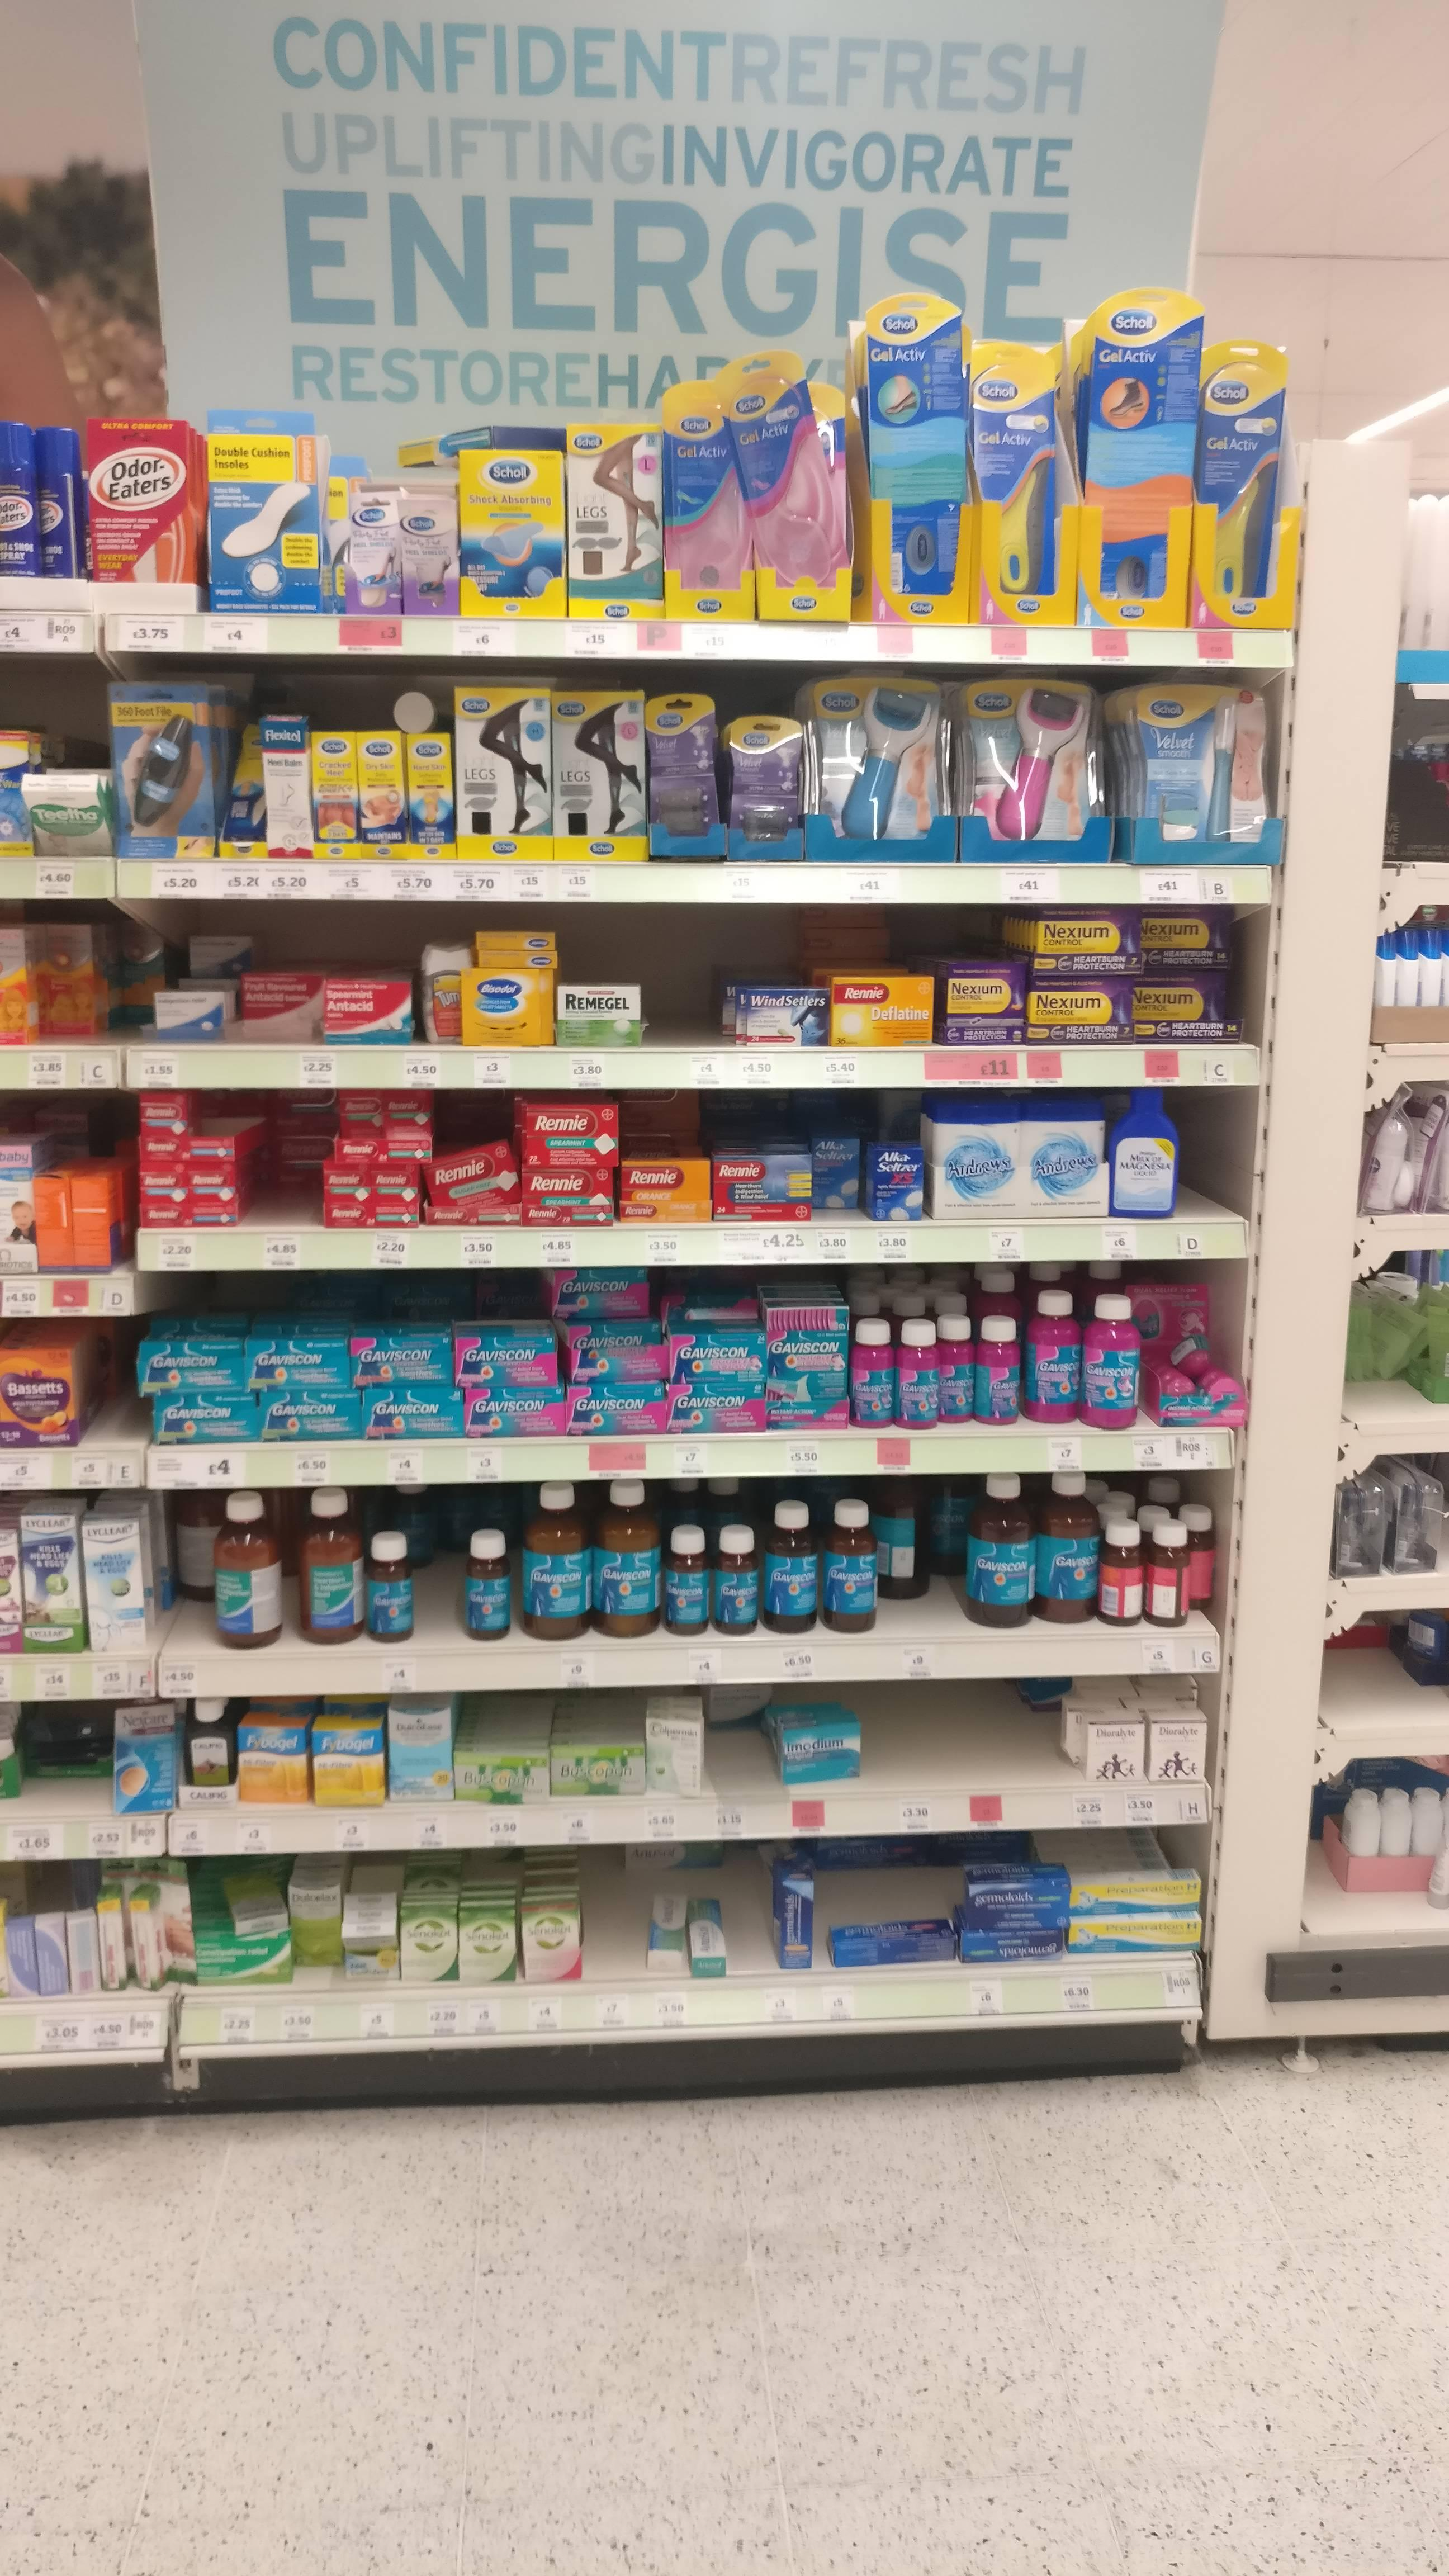misalignment: (865, 1476, 938, 1601), (21, 761, 111, 862), (646, 1884, 725, 1987), (338, 1877, 407, 1980), (823, 1920, 952, 1969), (425, 1146, 525, 1208), (221, 1856, 290, 1932)
